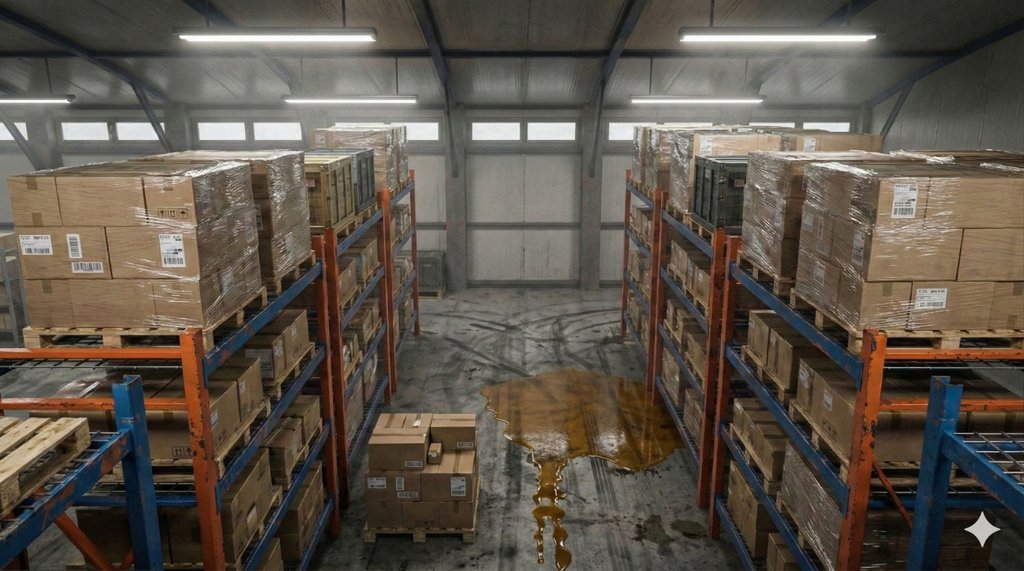obstacle: (360, 368, 480, 544)
spill: (483, 355, 695, 570)
